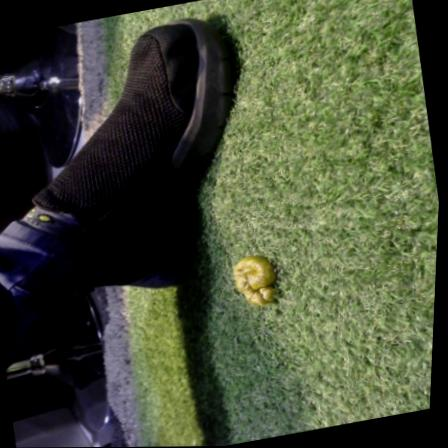dog-poop: (236, 255, 283, 307)
